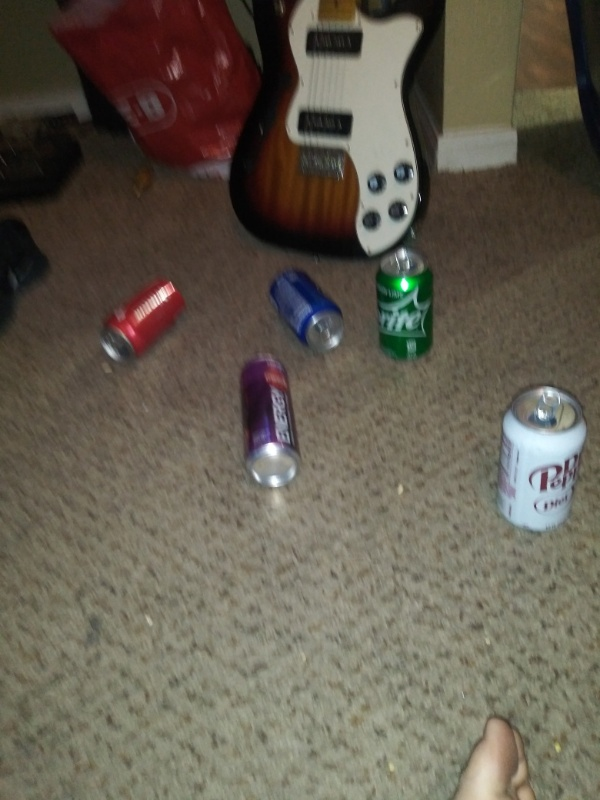can: (492, 384, 587, 533), (237, 351, 304, 491), (373, 245, 440, 367), (99, 277, 187, 366), (266, 266, 349, 353)
